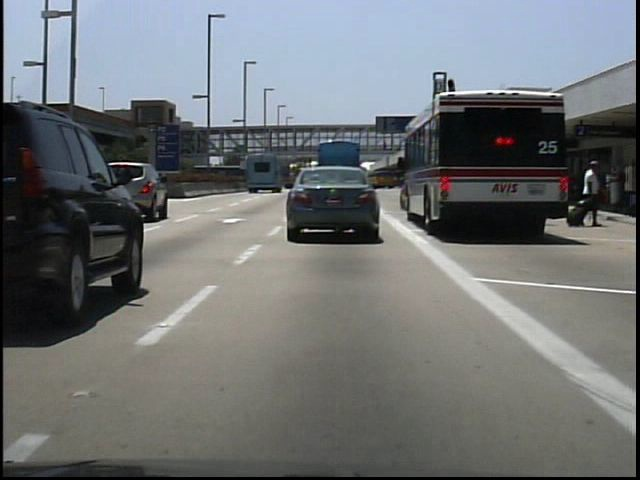person: (575, 157, 603, 230), (380, 137, 393, 157)
